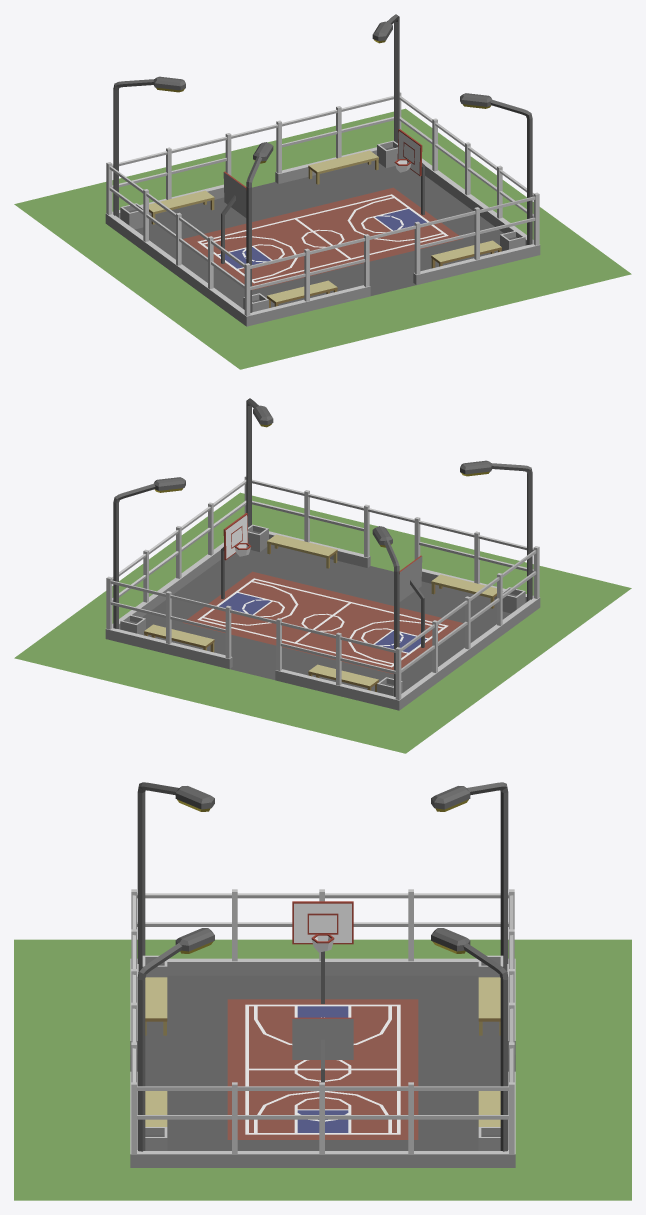
Rendered from landscape_entertainment_010.fbx.
The picture shows the model from 3 angles, top to bottom: view 1: azimuth 30°, elevation 25°; view 2: azimuth 150°, elevation 25°; view 3: azimuth 270°, elevation 25°; orthographic projection. The views are drawn at different scales.
Visible parts, largest first — view 1: landscape_entertainment_010; view 2: landscape_entertainment_010; view 3: landscape_entertainment_010.
Part boxes in pixels (x1,y1,x2,y2): landscape_entertainment_010: (14,14,631,369); landscape_entertainment_010: (14,398,631,753); landscape_entertainment_010: (14,782,631,1200).
Size of the model in its own units: 1600 by 616 by 1600.
